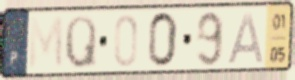0: (145, 11, 183, 69), (113, 13, 139, 70)
9: (195, 10, 225, 69)
A: (226, 10, 266, 66)
M: (27, 14, 65, 72)
Q: (63, 14, 99, 71)
